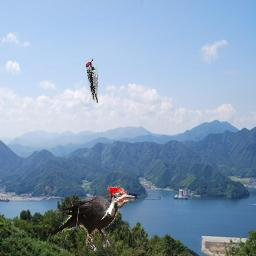Woodpecker: (51, 186, 138, 253), (86, 57, 98, 103)
